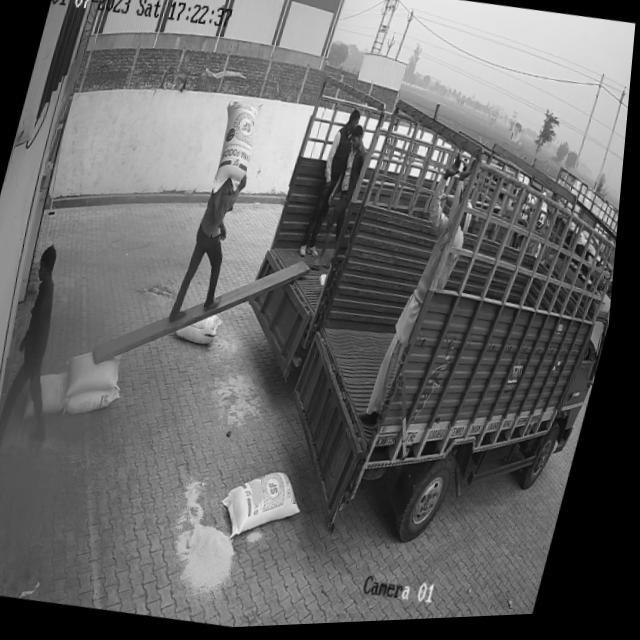sack: (222, 464, 319, 550), (208, 99, 266, 199), (65, 348, 130, 403), (28, 368, 78, 423), (70, 380, 128, 422), (178, 310, 230, 350)
